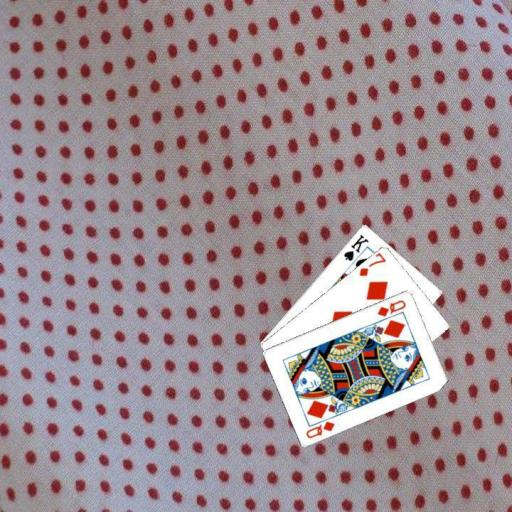card-corner: (340, 231, 370, 263), (356, 250, 388, 278), (374, 296, 408, 318), (303, 418, 336, 440)
